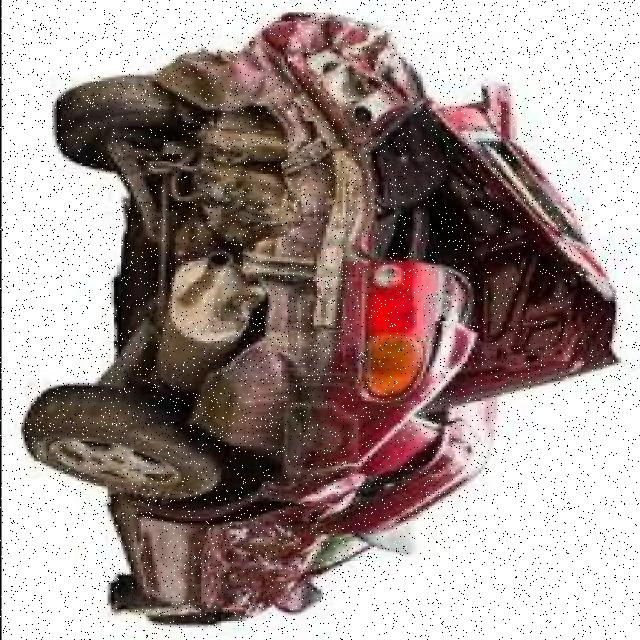damage: (111, 14, 622, 615)
